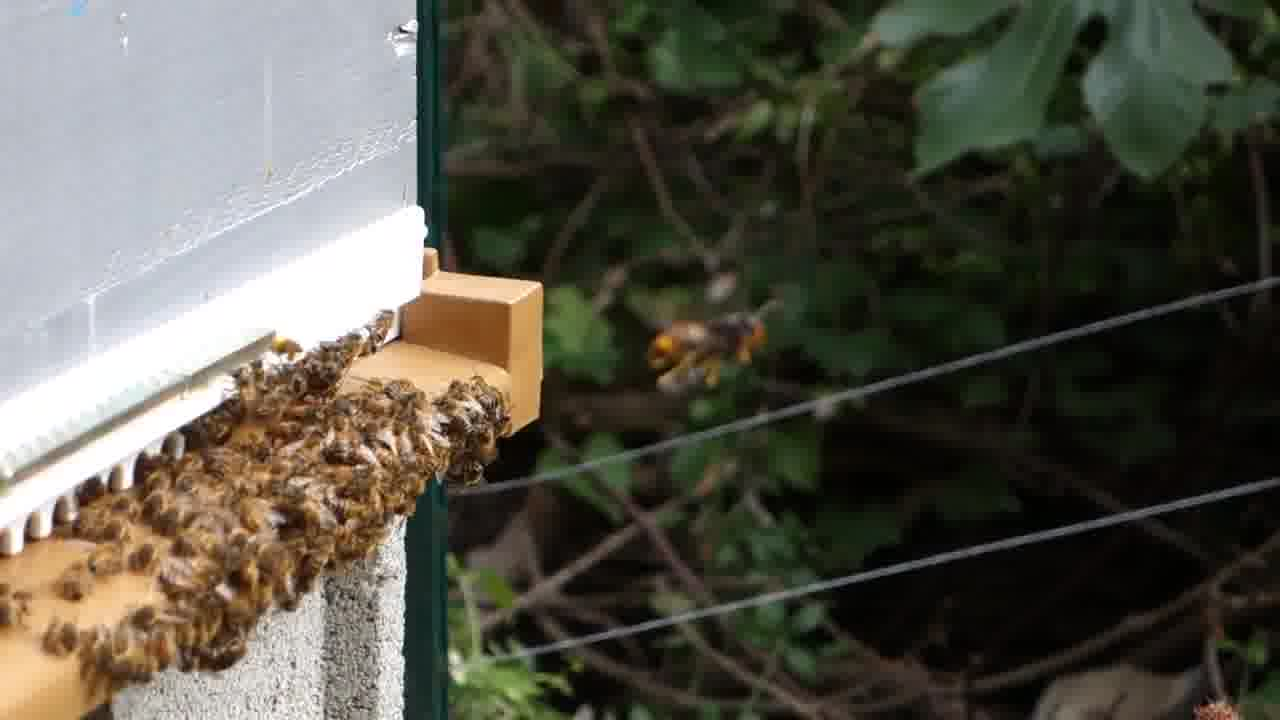bee: (38, 621, 115, 674), (294, 530, 351, 594), (184, 631, 254, 679), (367, 367, 428, 413), (442, 447, 492, 490), (254, 325, 307, 363), (465, 376, 508, 420), (365, 305, 404, 351), (139, 484, 177, 524)
hornet: (647, 299, 779, 386)
